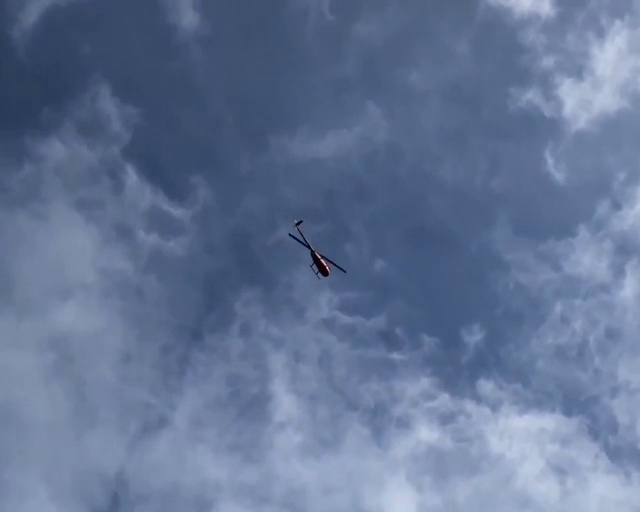HELICOPTER: (287, 218, 345, 280)
